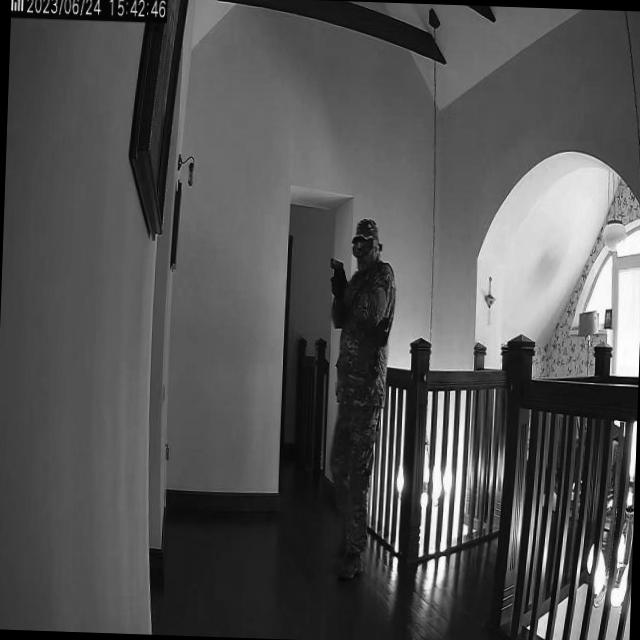gun: (329, 253, 346, 282)
person with a gun: (316, 215, 394, 586)
